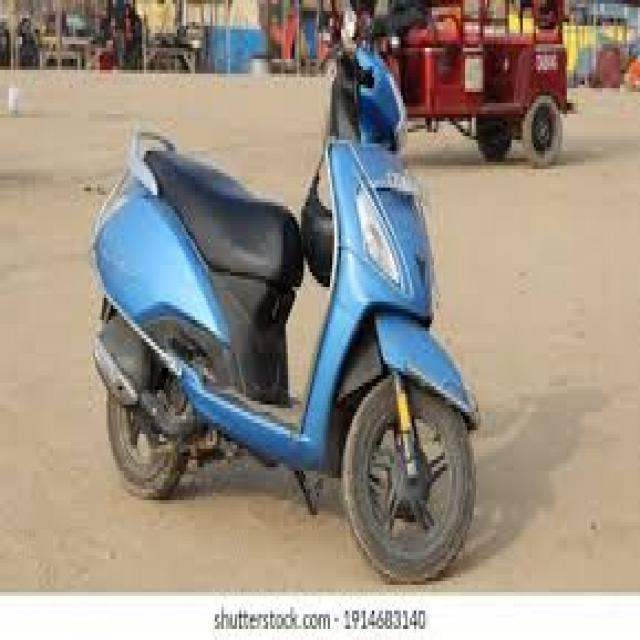Scooty: (99, 46, 498, 525)
